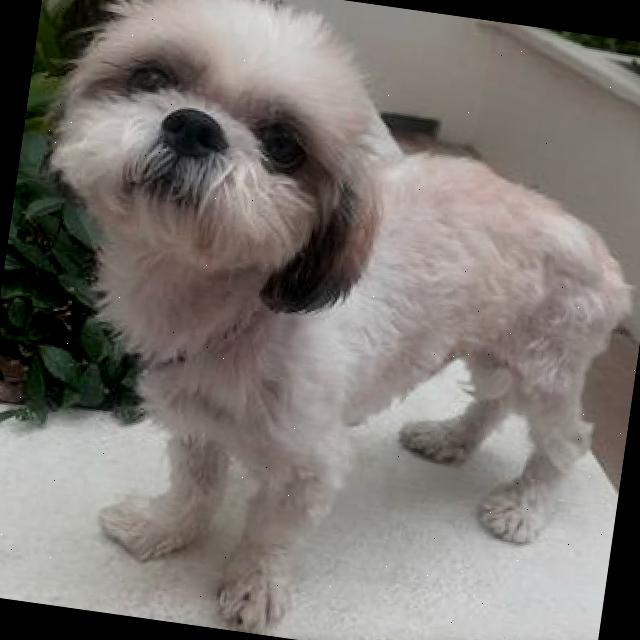shih_tzu_dog: (24, 0, 421, 353)
